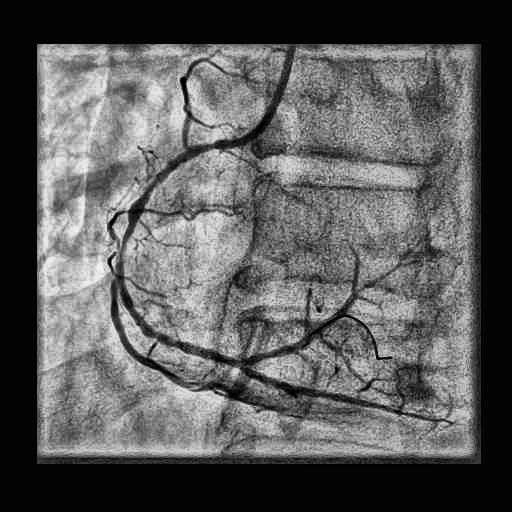pborca: (244, 248, 359, 365)
pda: (237, 362, 443, 422)
rca: (116, 141, 238, 367)
